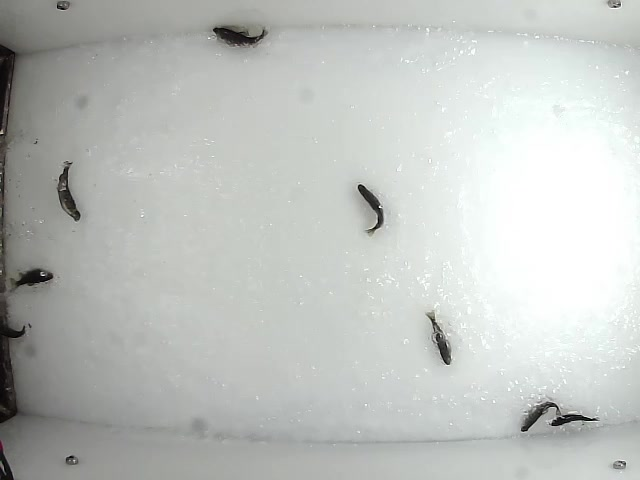fish: (421, 309, 453, 366), (55, 159, 82, 223), (356, 182, 385, 239), (518, 399, 564, 434), (208, 25, 271, 49), (6, 266, 57, 292), (545, 411, 600, 429)
